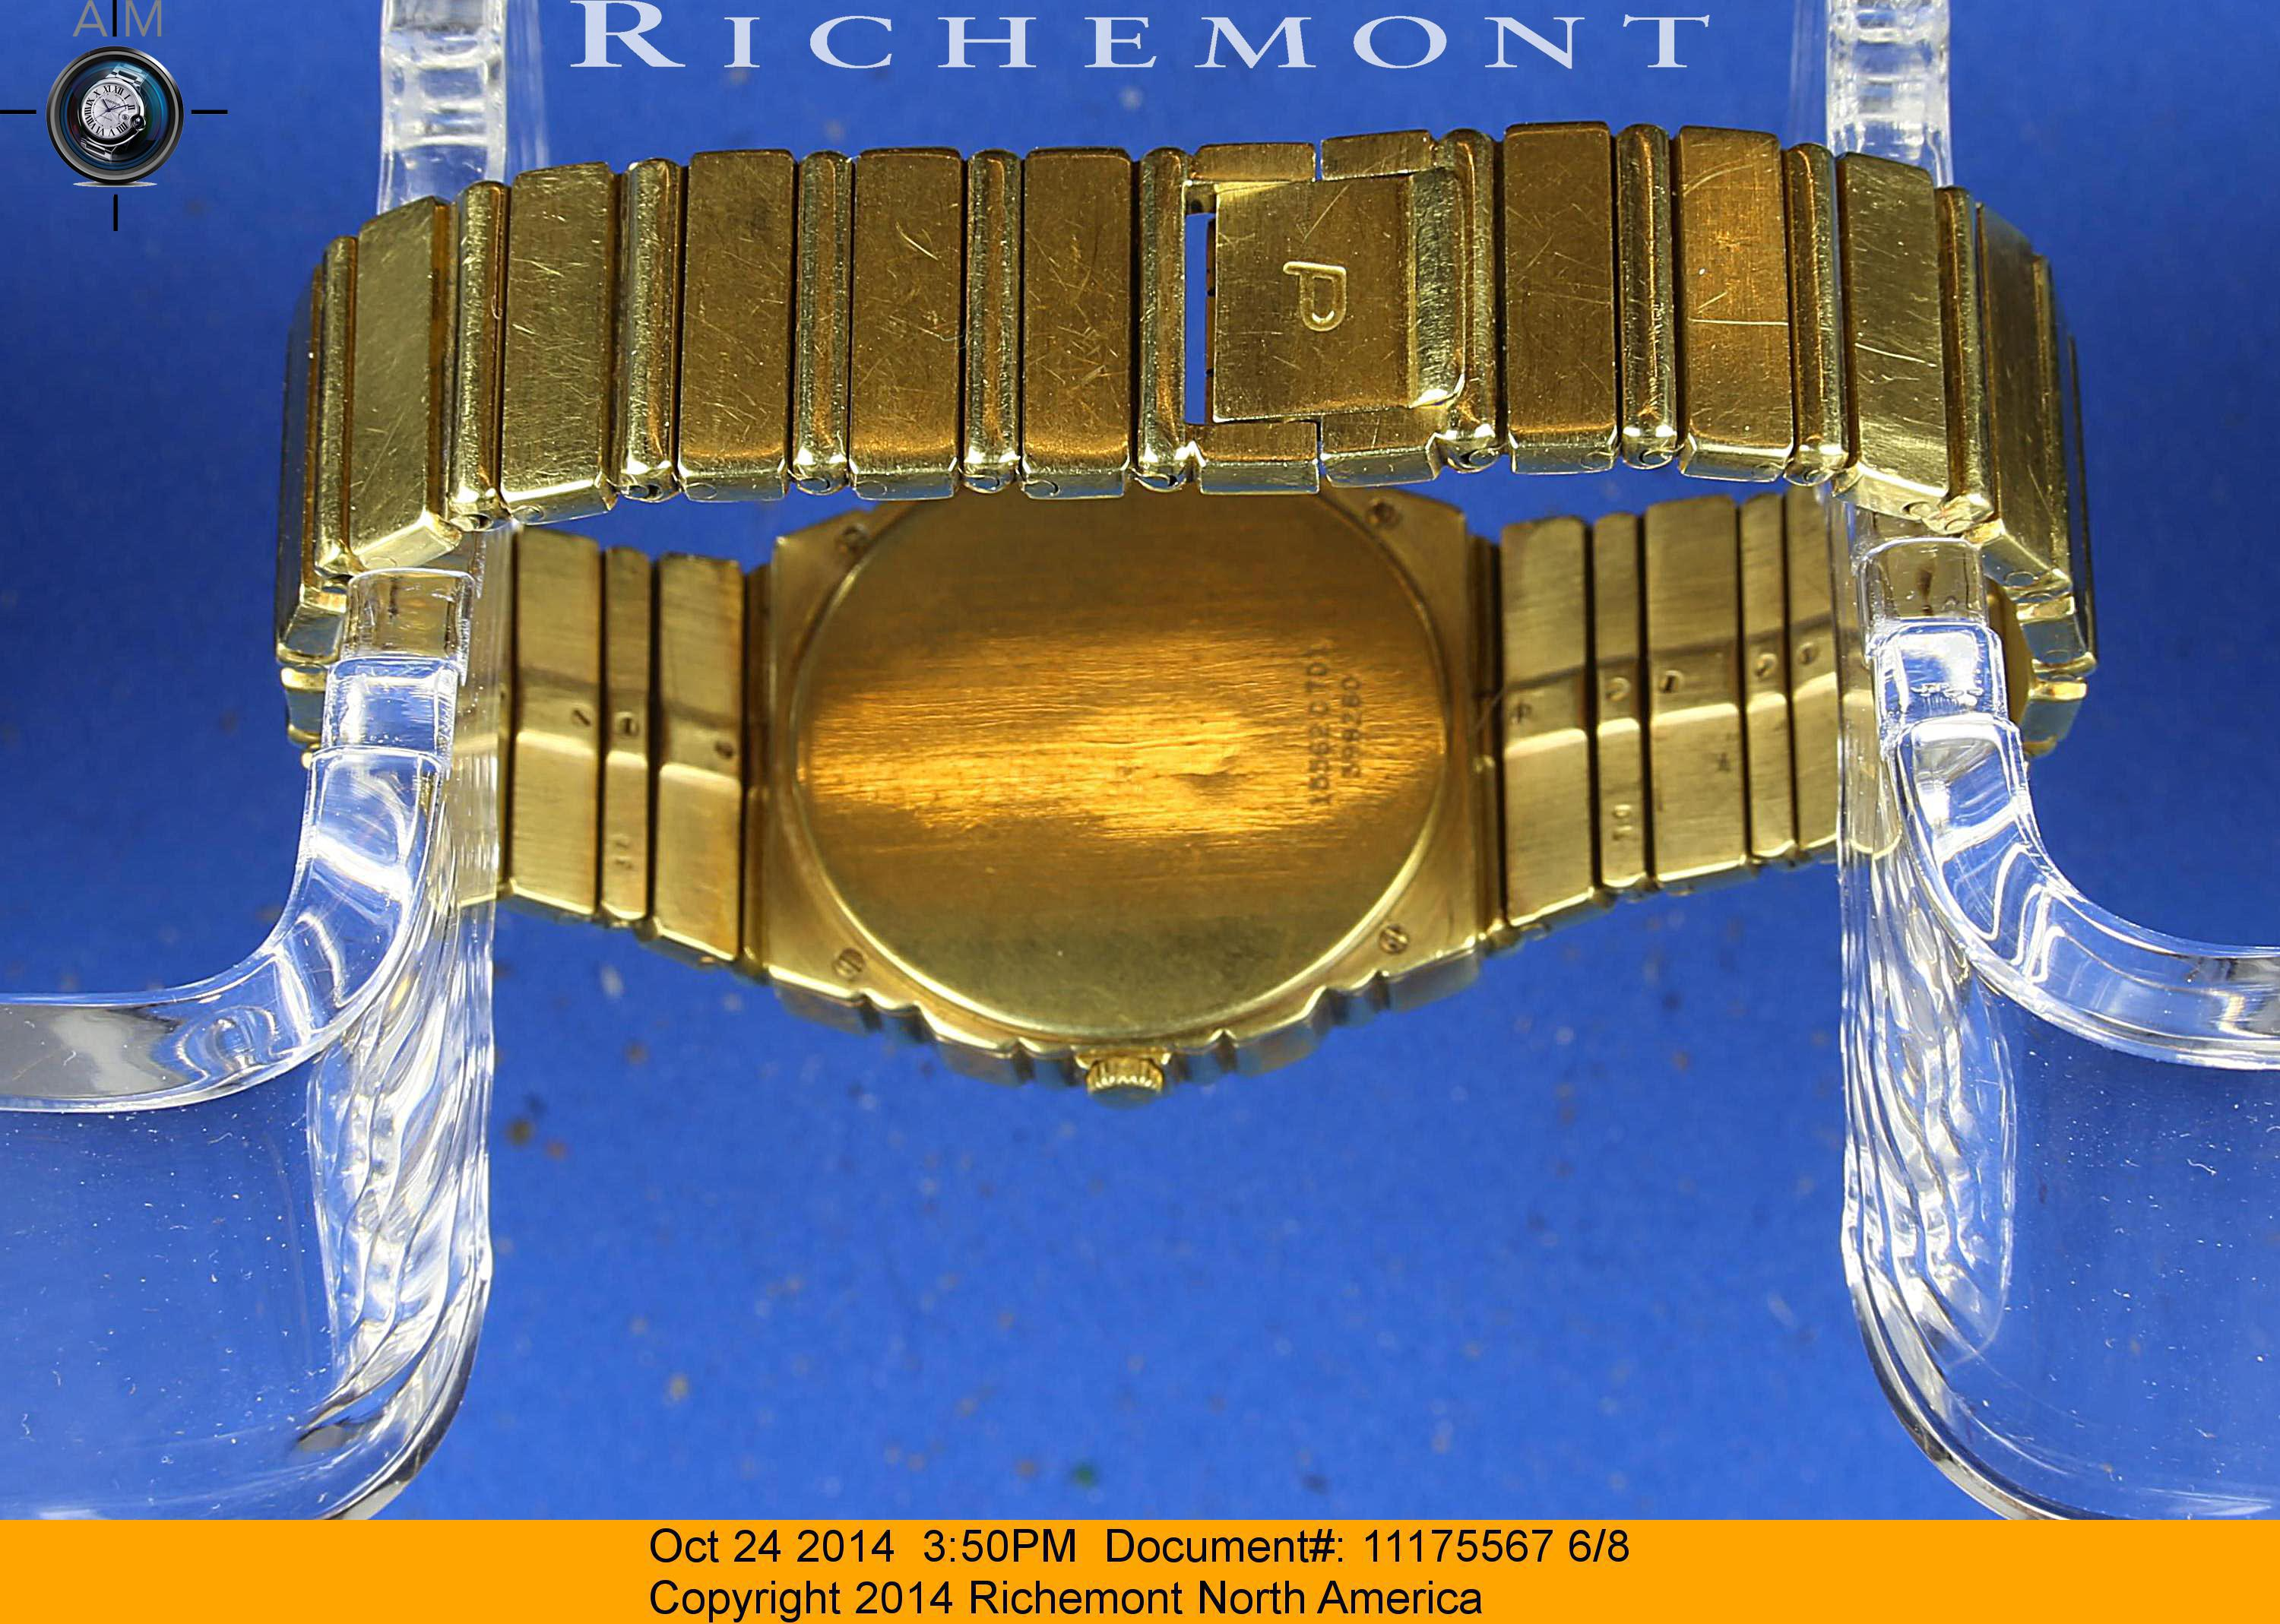Watch BackCase: (752, 503, 1517, 1118)
